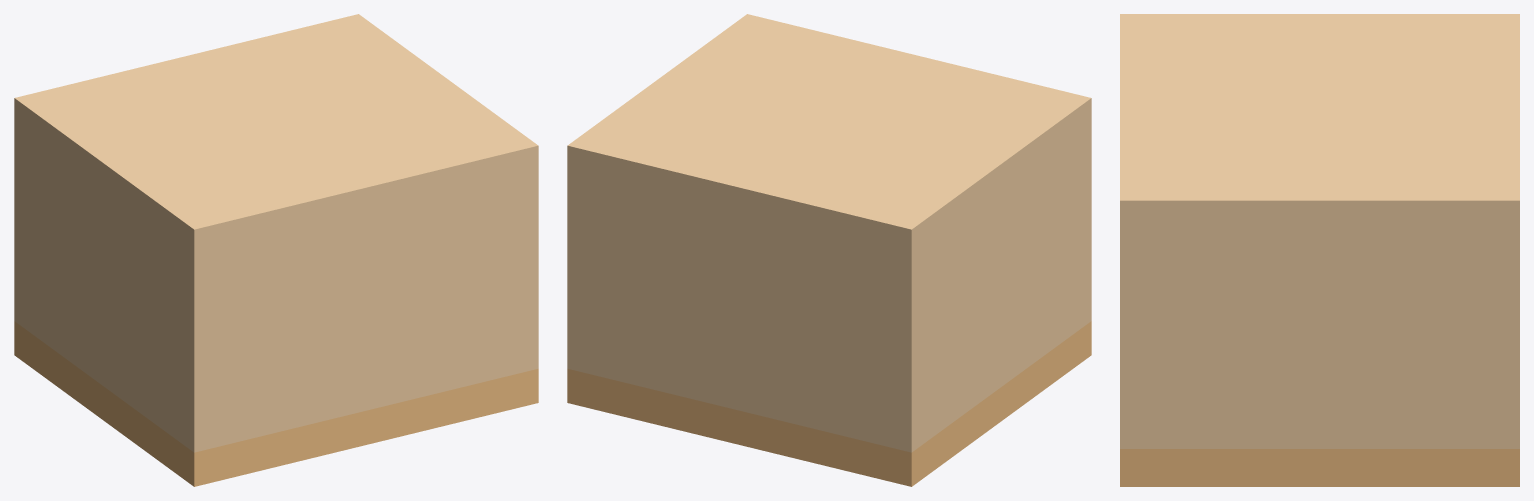
The model's file is noobioriginal-5.obj.
3 renders of one model, left to right at view 1: azimuth 30°, elevation 25°; view 2: azimuth 150°, elevation 25°; view 3: azimuth 270°, elevation 25°, orthographic. The views are drawn at different scales.
Bounding box in the file's own units: 4.2 × 3 × 3.8.
1 material, 1 textured.
